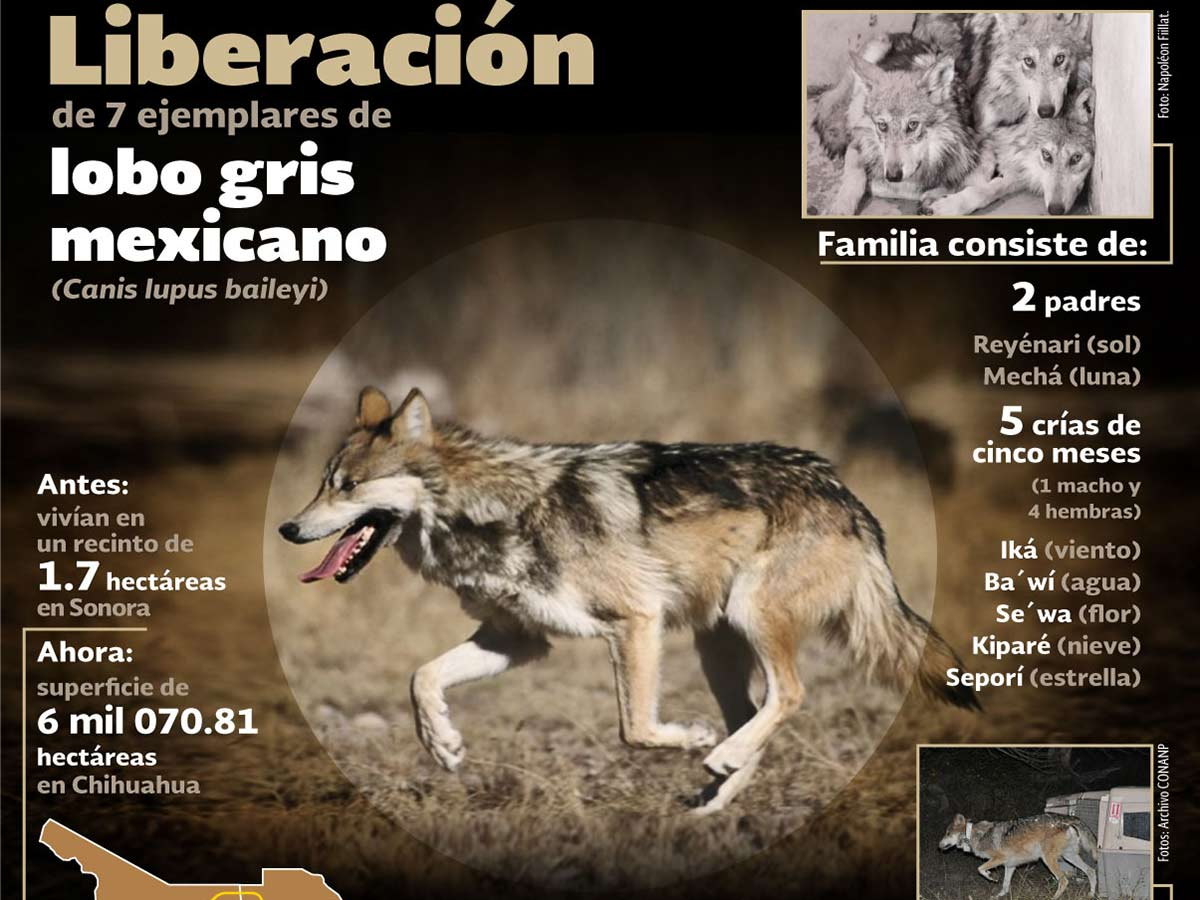Lobo: (273, 362, 990, 798), (841, 41, 975, 208), (979, 124, 1124, 227), (990, 18, 1089, 128), (935, 808, 1073, 880)
